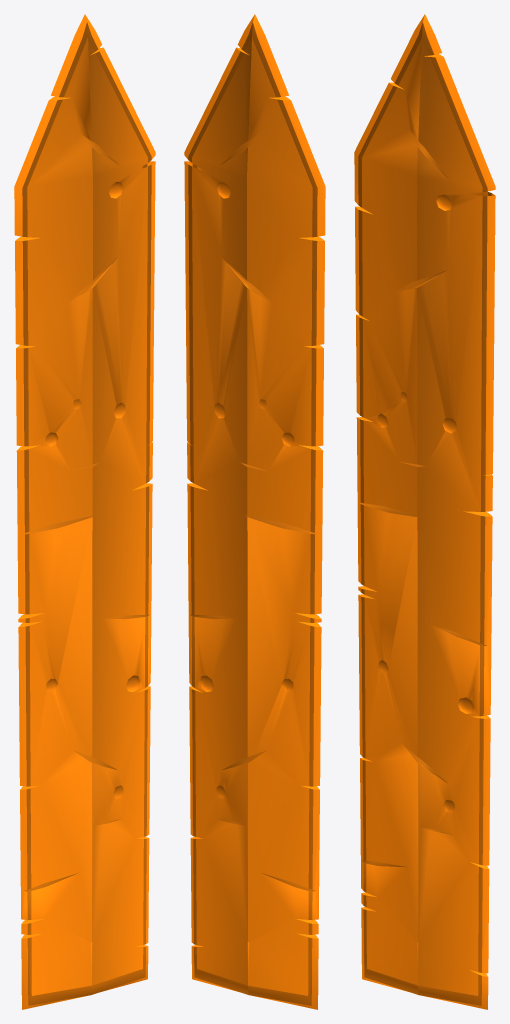
File: bronze_blade_bubbles_028.glb
3 renders of one model, left to right at view 1: azimuth 30°, elevation 25°; view 2: azimuth 150°, elevation 25°; view 3: azimuth 330°, elevation 25°, orthographic.
Visible parts, largest first — view 1: bronze_blade_bubbles.028; view 2: bronze_blade_bubbles.028; view 3: bronze_blade_bubbles.028.
Boxes of the visible parts, left/top/right/bottom form: bronze_blade_bubbles.028: left=14, top=14, right=155, bottom=1009; bronze_blade_bubbles.028: left=184, top=14, right=325, bottom=1009; bronze_blade_bubbles.028: left=354, top=14, right=495, bottom=1009.
Size of the model in its own units: 1.71 by 11.4 by 0.3369.
Materials: 1 (1 with a texture image).
